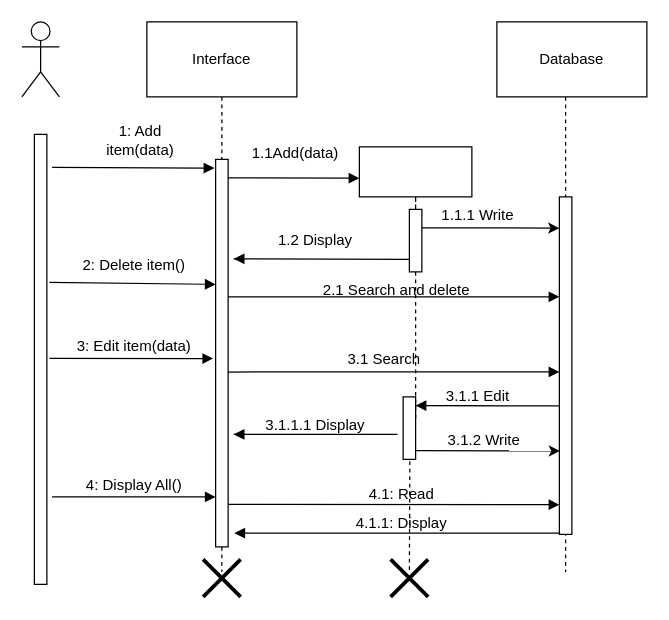
This 669x620 diagram has some shape labels left out. Each missing label, with the centre of its shape:
"Actor" belongs at point (40, 59).
"Item" belongs at point (415, 171).
